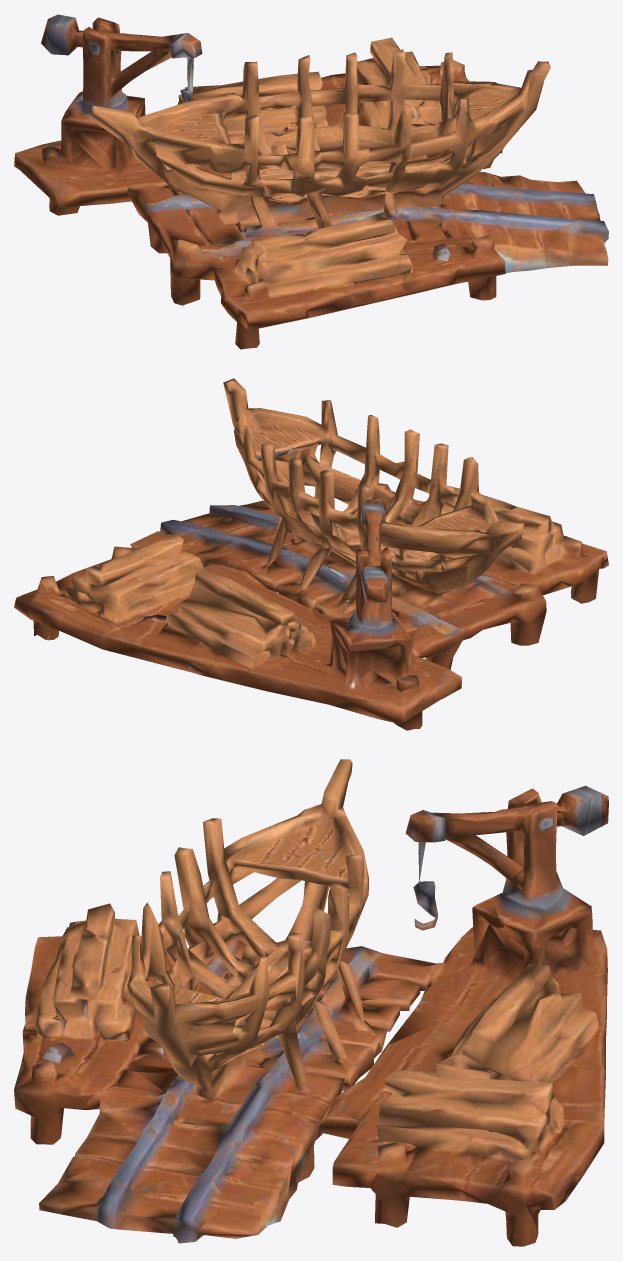
The model's file is m_shipyard.glb.
3 views of the same model, one above another, from view 1: azimuth 30°, elevation 25°; view 2: azimuth 150°, elevation 25°; view 3: azimuth 270°, elevation 25° (orthographic). The views are drawn at different scales.
Bounding box in the file's own units: 0.8919 × 0.3525 × 0.8025.
Materials: 1 (1 with a texture image).
